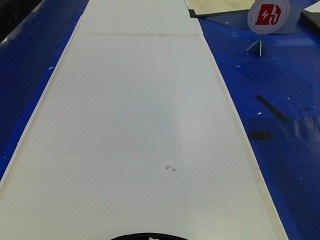battery: (247, 0, 287, 36)
